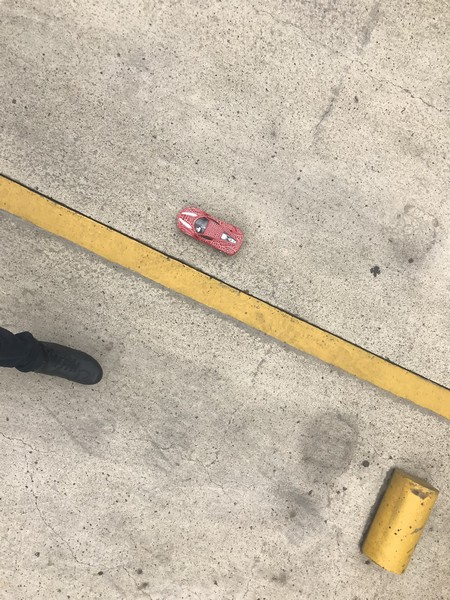RC: (173, 200, 246, 259)
